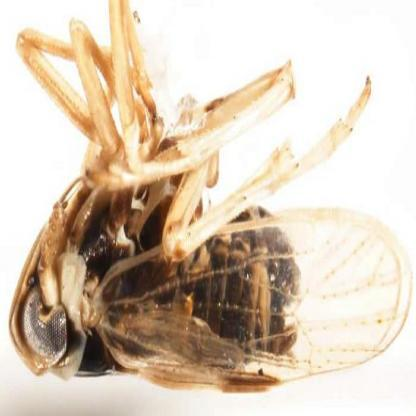brown-planthopper: (9, 146, 412, 392)
